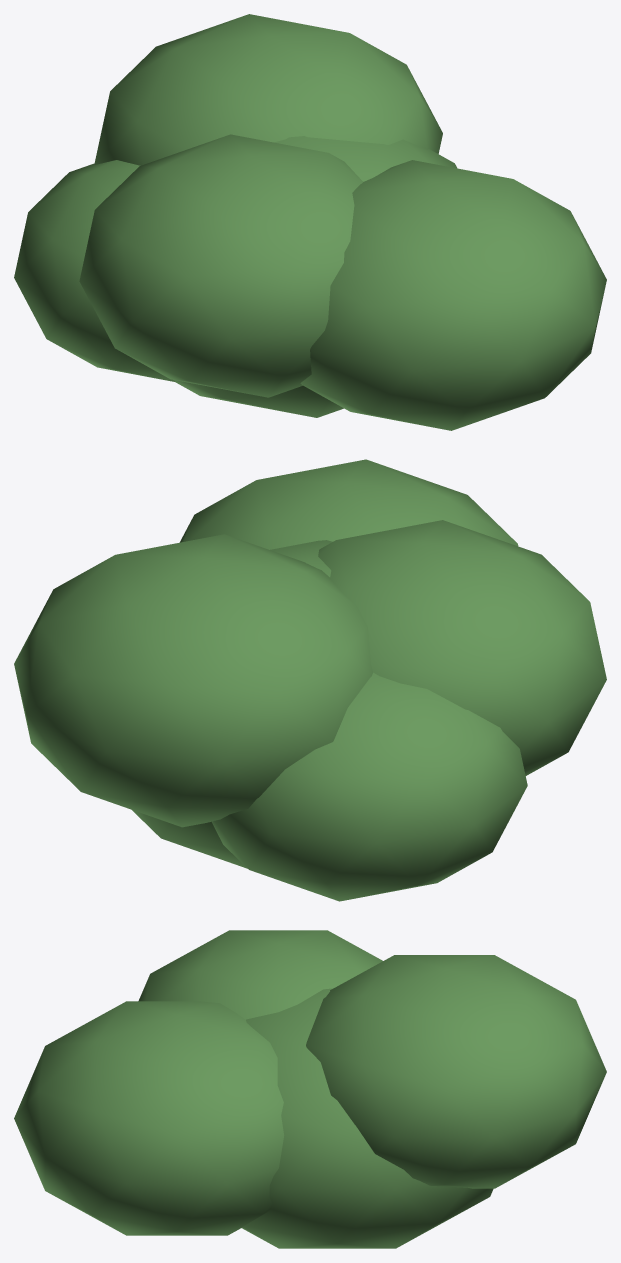
Rendered from bush.glb.
3 views of the same model, one above another, from view 1: azimuth 30°, elevation 25°; view 2: azimuth 150°, elevation 25°; view 3: azimuth 270°, elevation 25° (orthographic). The views are drawn at different scales.
Parts seen in each view (by area): view 1: Icosphere.004, Icosphere.003, Icosphere.001, Icosphere.002, Icosphere; view 2: Icosphere.001, Icosphere.002, Icosphere.003, Icosphere.004, Icosphere; view 3: Icosphere.001, Icosphere.004, Icosphere, Icosphere.003.
Part boxes in pixels (left/top/right/bottom): Icosphere.004: left=300, top=160, right=606, bottom=430; Icosphere.003: left=79, top=134, right=362, bottom=397; Icosphere.001: left=94, top=14, right=442, bottom=165; Icosphere.002: left=14, top=160, right=175, bottom=381; Icosphere: left=173, top=136, right=456, bottom=417; Icosphere.001: left=14, top=534, right=372, bottom=827; Icosphere.002: left=212, top=672, right=527, bottom=901; Icosphere.003: left=318, top=520, right=606, bottom=775; Icosphere.004: left=180, top=459, right=518, bottom=549; Icosphere: left=132, top=540, right=332, bottom=868; Icosphere.001: left=306, top=955, right=606, bottom=1188; Icosphere.004: left=14, top=1001, right=284, bottom=1235; Icosphere: left=242, top=988, right=493, bottom=1248; Icosphere.003: left=138, top=930, right=382, bottom=1019.
Bounding box in the file's own units: 0.9056 × 0.6337 × 1.22.
